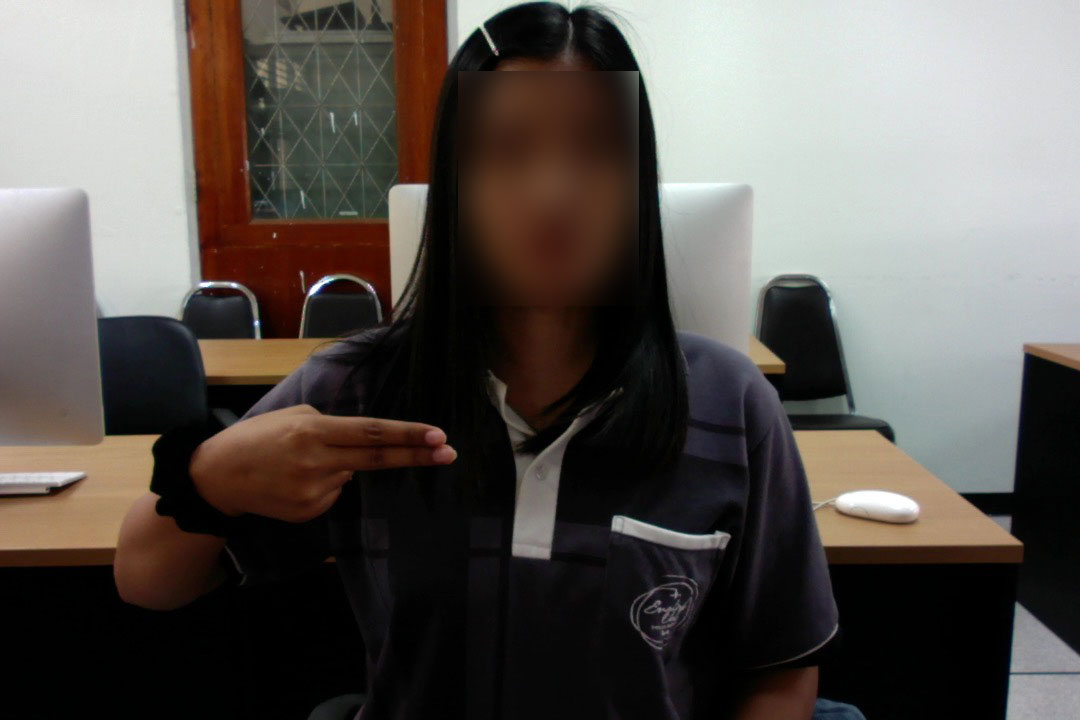hor: (186, 399, 462, 530)
